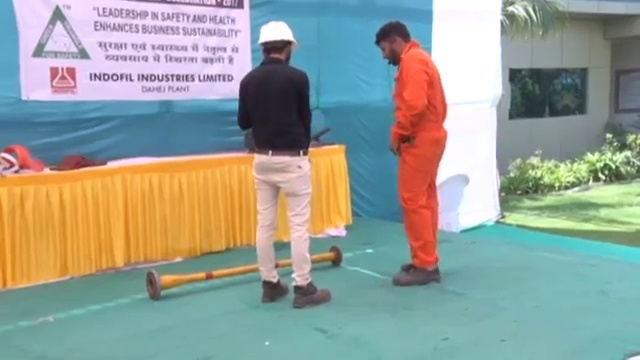helmet: (255, 19, 298, 50)
helmet_off: (375, 21, 413, 71)
helmet_on: (254, 19, 299, 64)
person: (234, 19, 336, 311), (373, 19, 450, 287)
